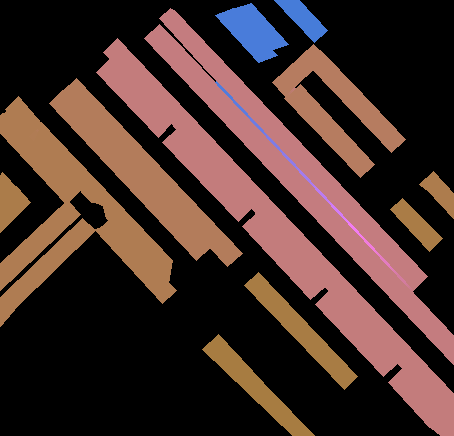parkingspot: (103, 38, 454, 413), (144, 24, 454, 365), (159, 8, 427, 290), (62, 78, 242, 266), (49, 90, 211, 260), (33, 122, 172, 283), (244, 272, 357, 389), (202, 334, 314, 436), (0, 218, 95, 326), (312, 56, 405, 152), (284, 84, 374, 177), (162, 128, 252, 221), (0, 112, 80, 204), (242, 212, 326, 299), (0, 200, 80, 290), (315, 290, 398, 376), (94, 220, 176, 303), (96, 58, 172, 137), (388, 367, 444, 427), (215, 8, 277, 62), (272, 44, 326, 96), (390, 198, 442, 251), (232, 3, 288, 50), (274, 0, 327, 42), (419, 171, 454, 219), (5, 96, 42, 136), (0, 186, 30, 232), (430, 412, 454, 436), (0, 172, 17, 204), (443, 404, 454, 424)
